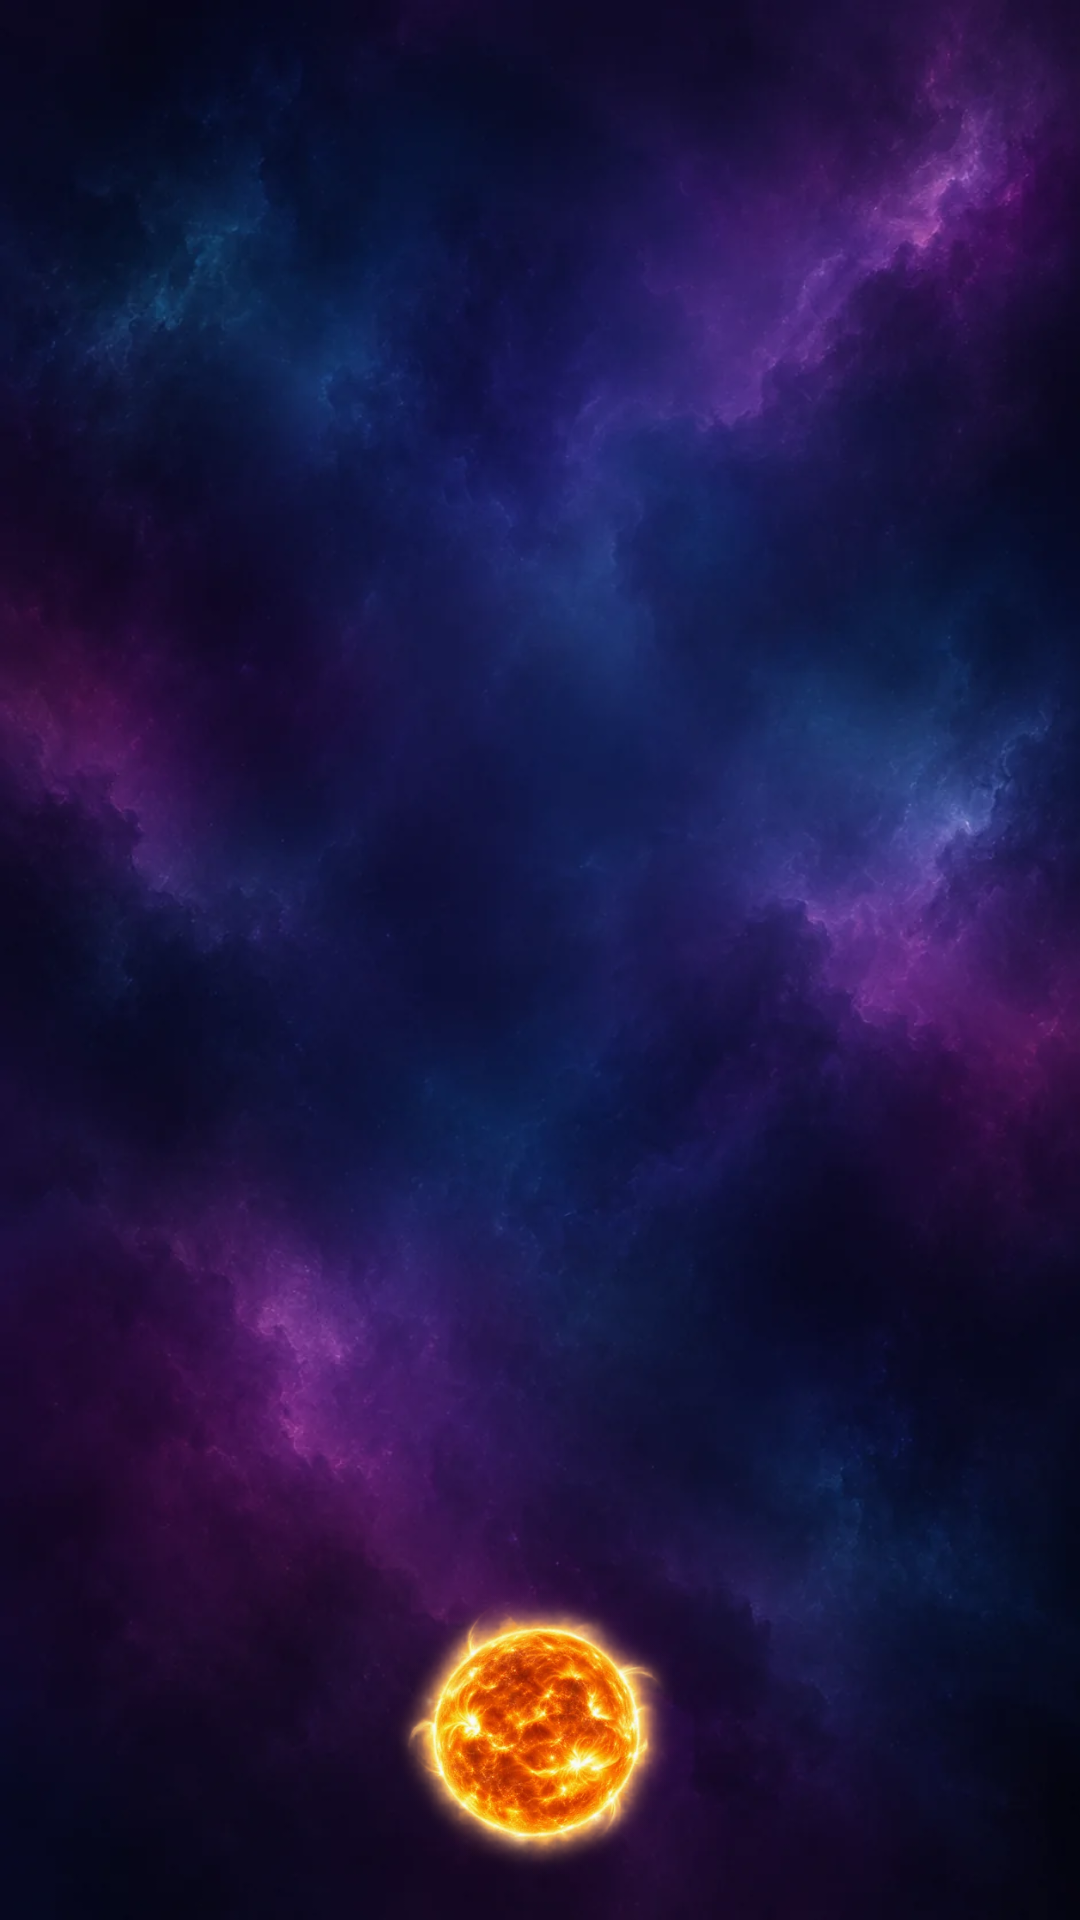

Locate icon controls on the screen. Image size 1080px×1920px, boxes as BBox(x1, y1, x2, y2).
태양계 메뉴 열기: BBox(375, 1566, 705, 1862)
